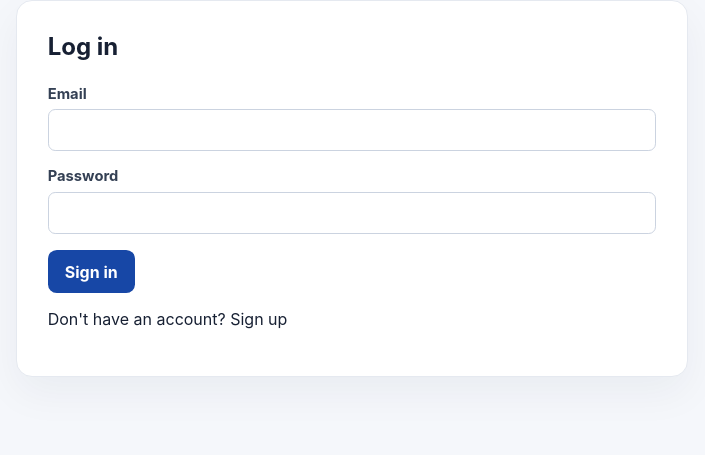
Scenario: login and register forms › shows the translated message for invalid credentials
This screenshot has width=705, height=455.
In the field labelled "Email": (352, 130) [48,109,656,152], type "ana@example.com"
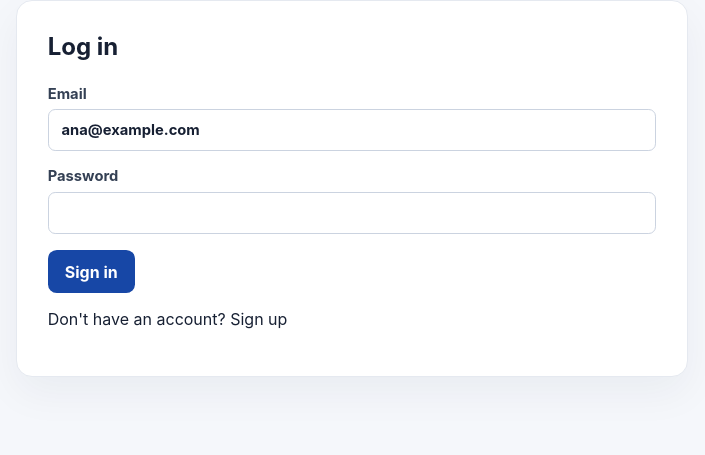
In the password field labelled "Password": (352, 213) [48,192,656,234], type "wrong-password"
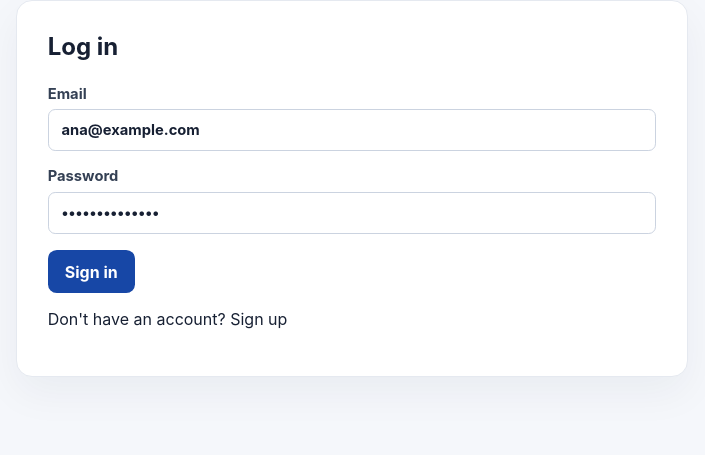
Click the button "Sign in": (91, 272) [48,250,135,294]
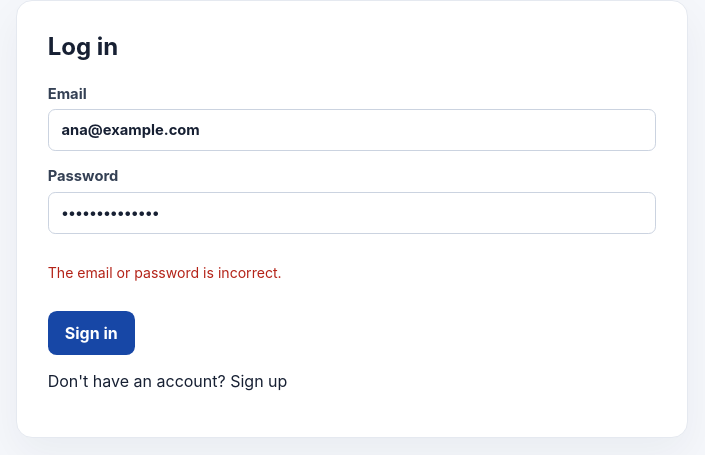
Expected: the message reads "The email or password is incorrect.", [48,264,282,281]
